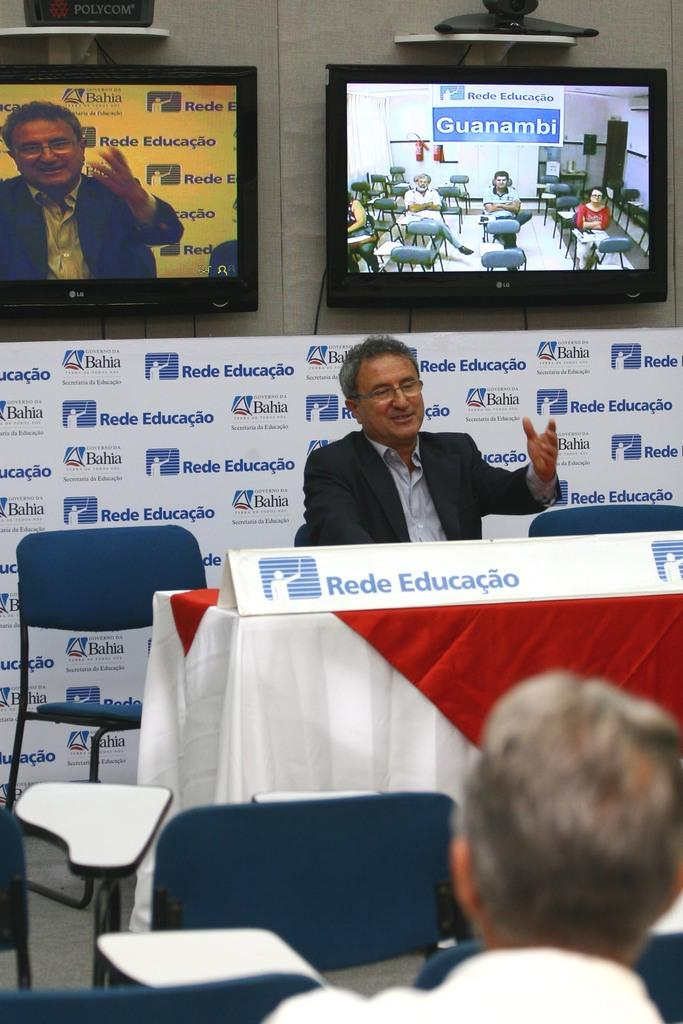Computer-monitor: (324, 49, 672, 330), (0, 73, 266, 324)
